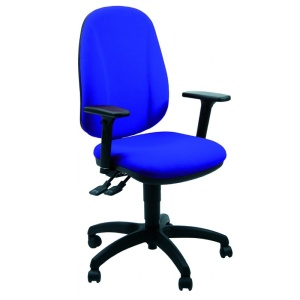chair: (77, 6, 233, 292)
